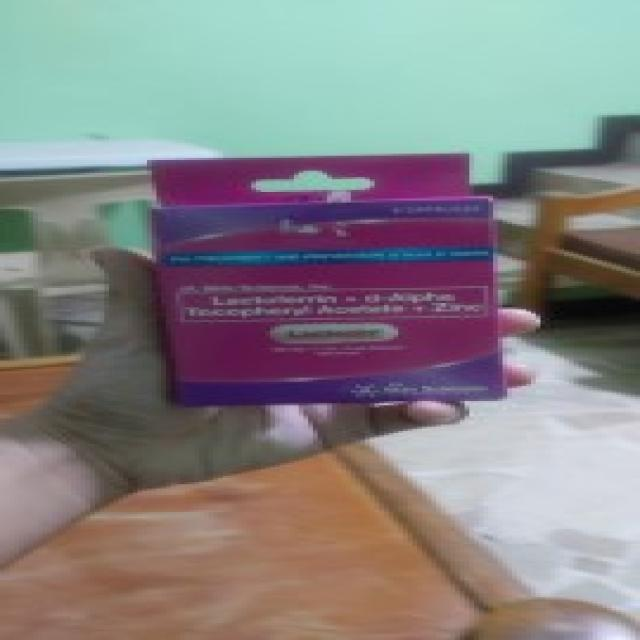Cacat: (152, 155, 491, 398)
